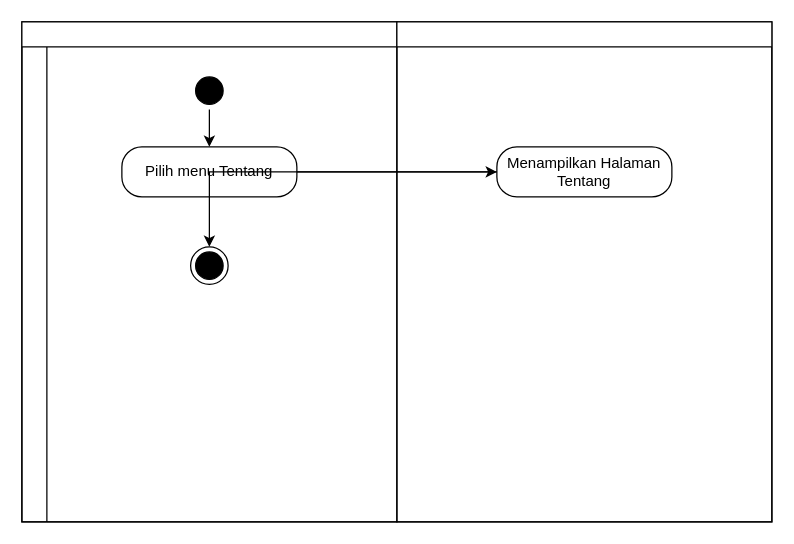
Some shapes in this 794 by 544 pixel diagram are drawn without their labels. The shapes that lost their labels are listed below. From the top down, each one's box as (x1, y1, x2, y2) in pixels, then its label:
(21, 21, 397, 522): Pengguna
(396, 21, 772, 522): Sistem
